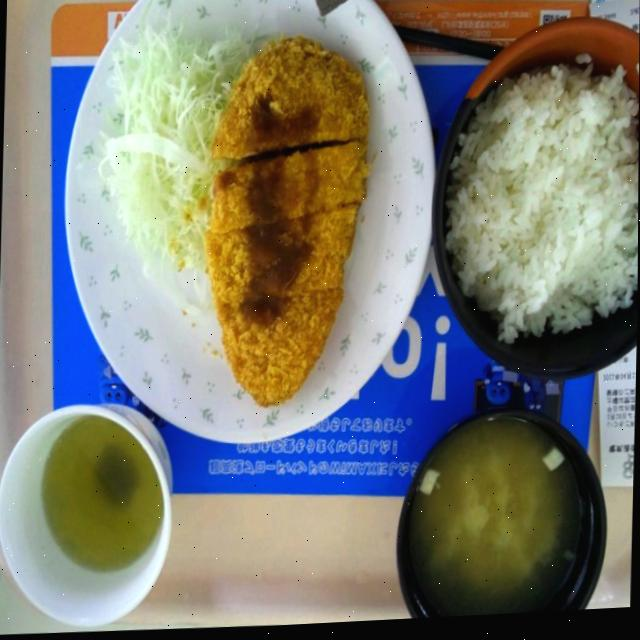米饭主食: (435, 18, 640, 389)
